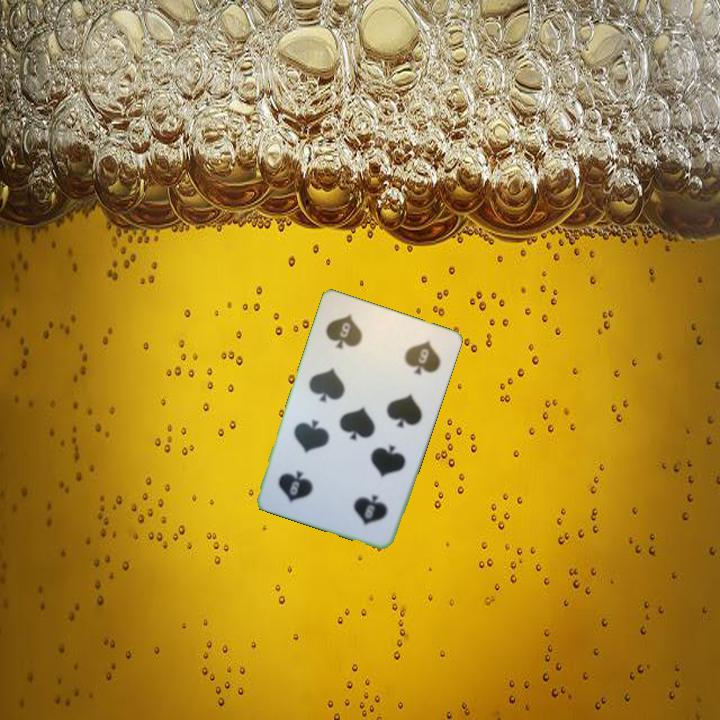s_9.png: (322, 465, 403, 540), (313, 300, 394, 375)
